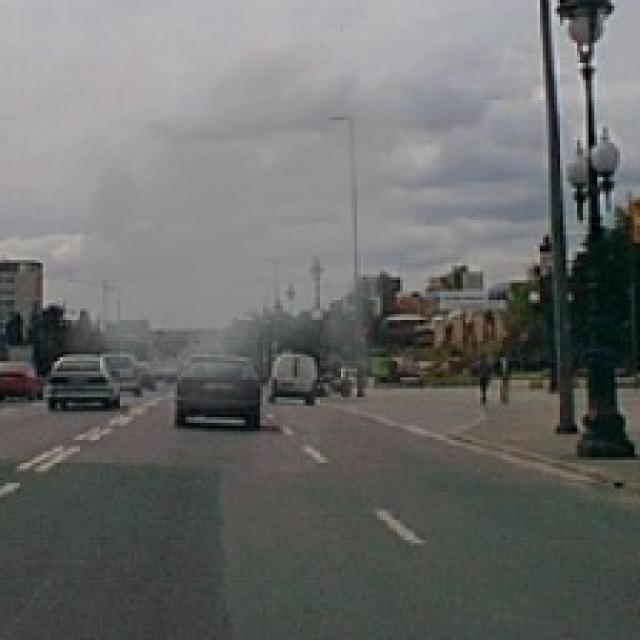smoke: (63, 31, 426, 408)
